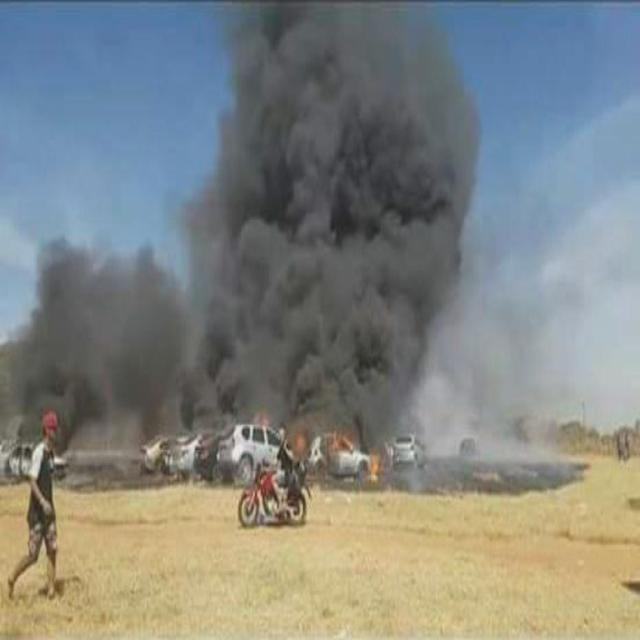Fire: (368, 447, 380, 485)
Smoke: (223, 9, 477, 437), (5, 236, 221, 444)
